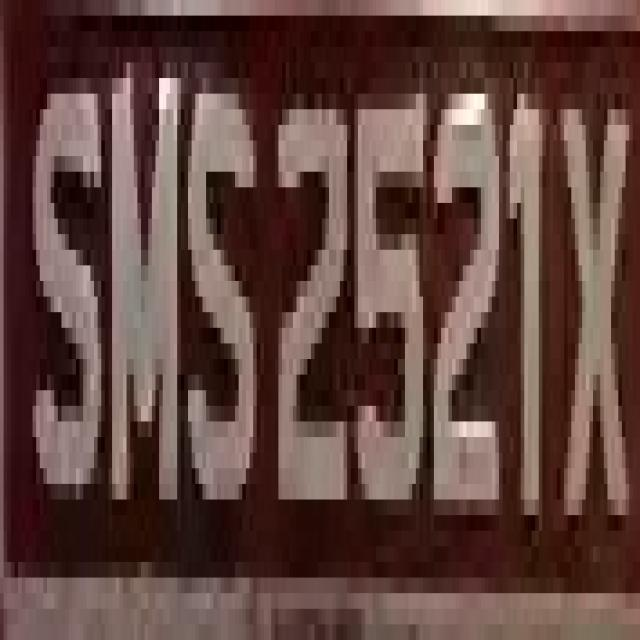1: (502, 31, 542, 546)
2: (427, 16, 502, 530), (278, 47, 354, 515)
5: (354, 47, 427, 562)
M: (98, 31, 184, 531)
S: (26, 78, 109, 500), (184, 78, 257, 515)
X: (560, 47, 640, 562)
